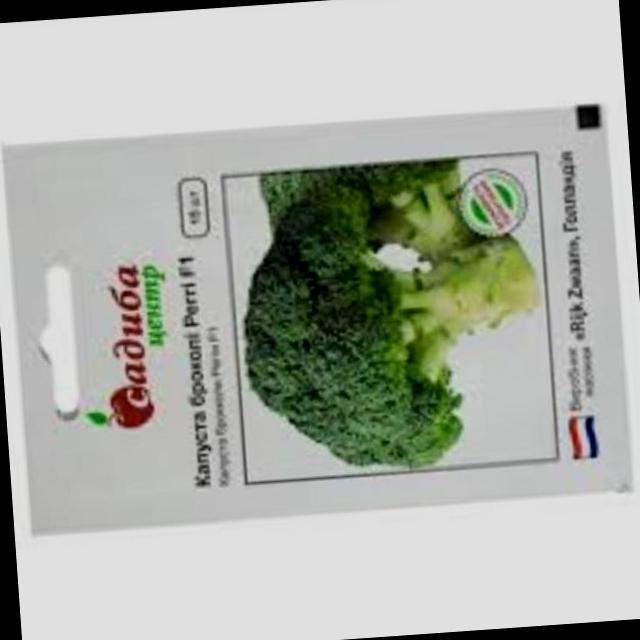Broccoli: (231, 134, 536, 480)
